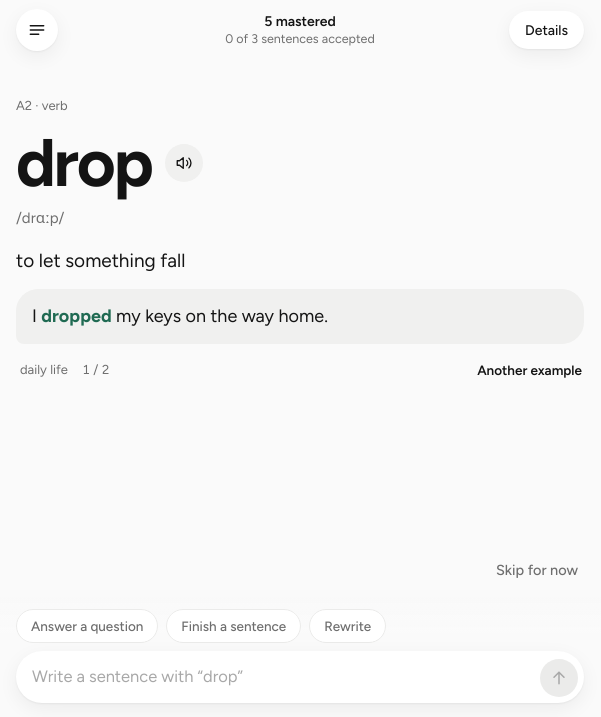
Study › only sends a sentence that uses the word, inflections included
Type "I lost my keys yesterday." into the text box named "Your sentence" at (283, 677), box [32,657,534,697]
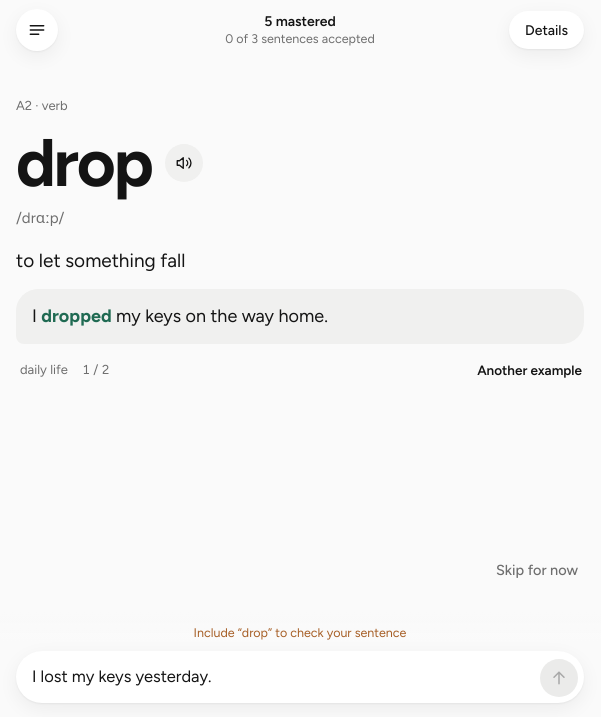
Expected: the button named "Check my sentence" is disabled, [540,659,578,697]
Expected: the text "Include “drop” to check your sentence" is shown, [194,625,406,640]
Replace the text in the text box named "Your sentence" with "Prices dropped a lot this month." at (283, 677), box [32,657,534,697]
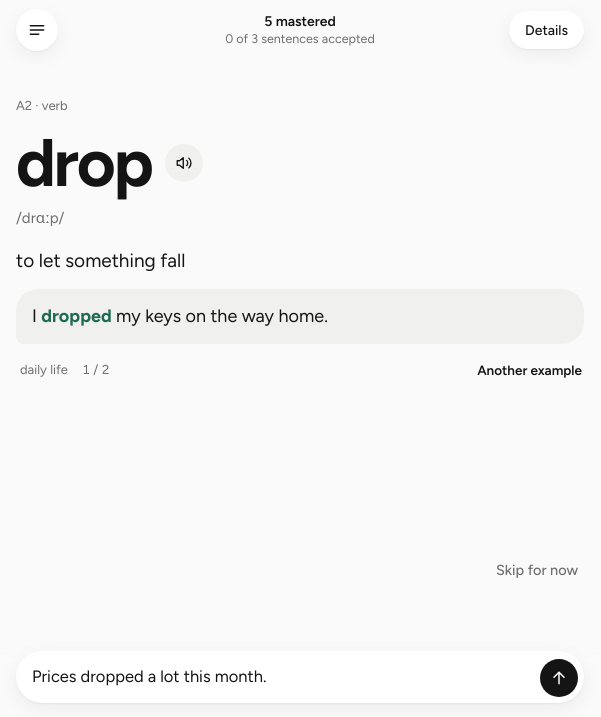
Expected: the button named "Check my sentence" is enabled, [540,659,578,697]
